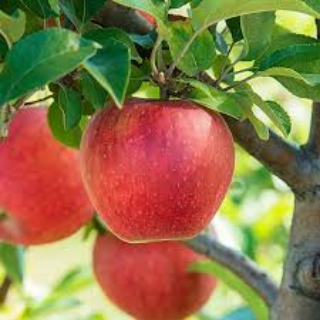tao: (77, 94, 242, 247)
